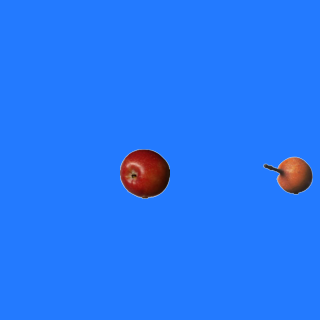Apple Braeburn: (119, 148, 169, 198)
Granadilla: (262, 150, 312, 200)
